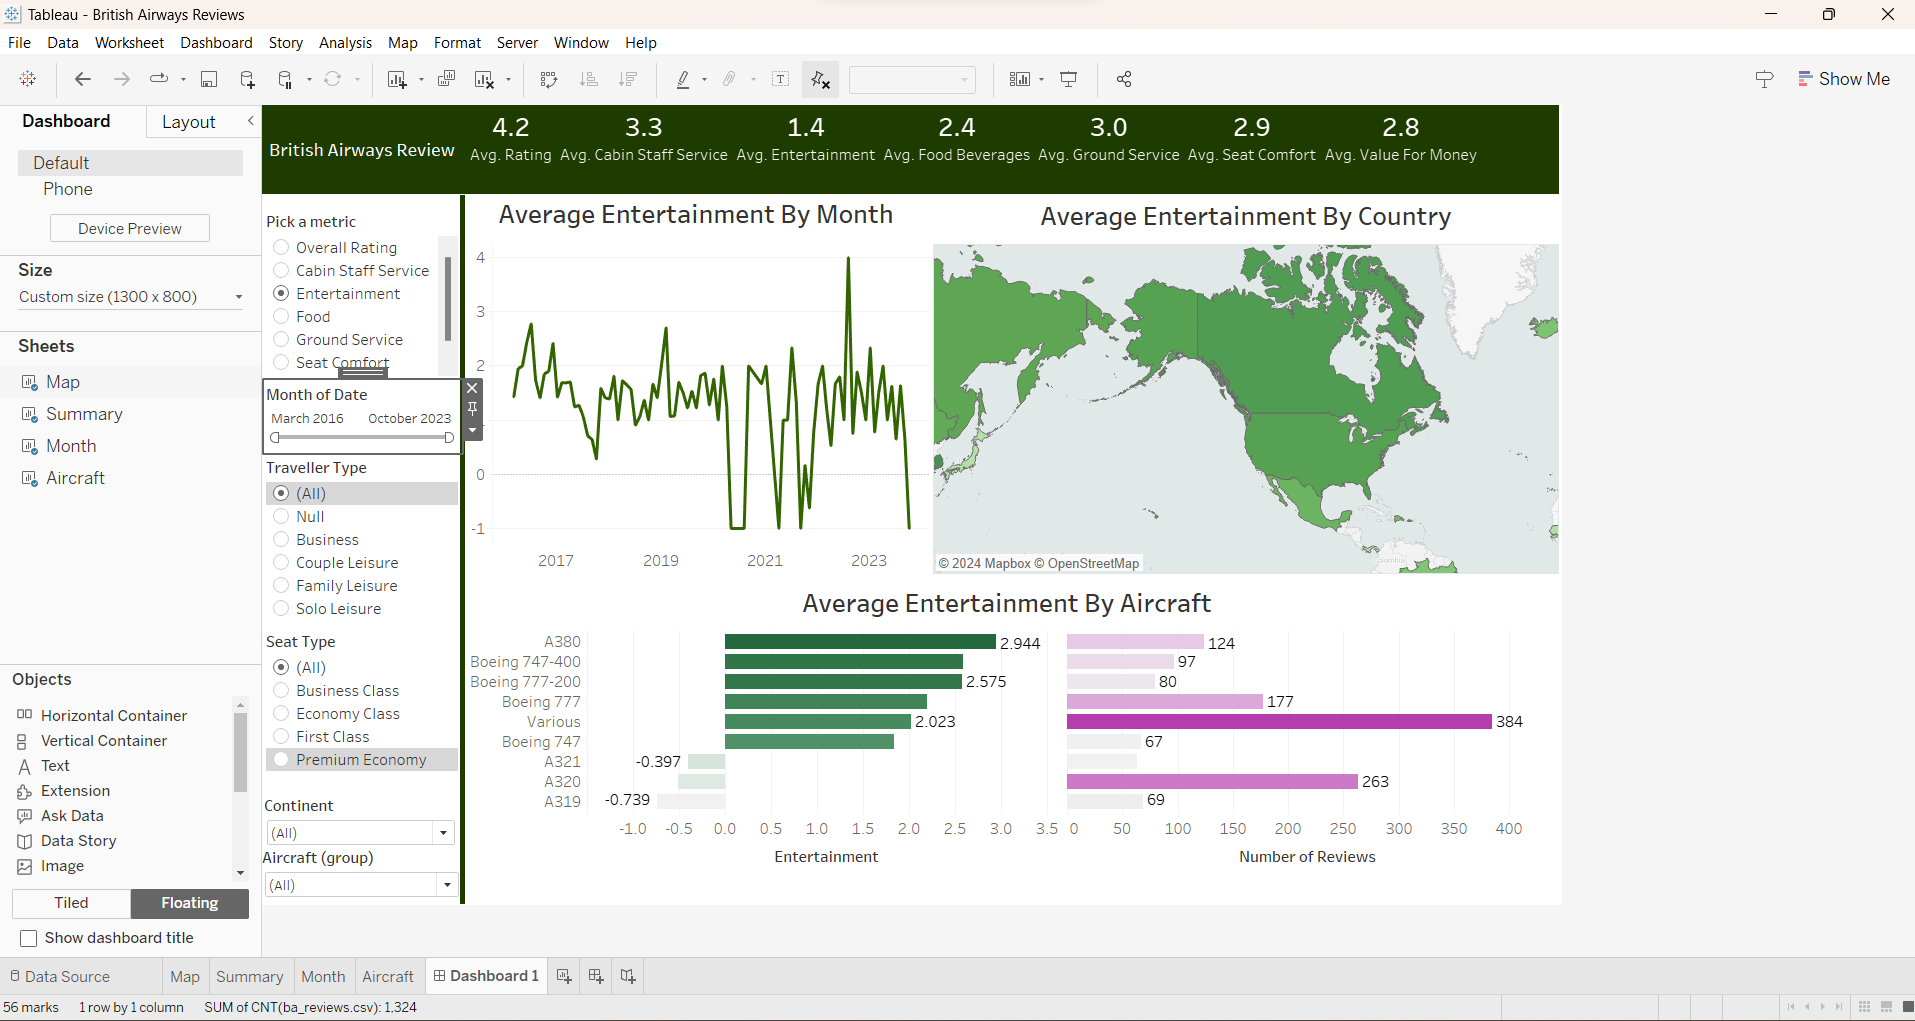

Layout of this report page (visuals, bound fields, positions):
{"tool":"tableau","page":{"name":"Dashboard 1","canvas":[1300,800],"ordinal":0},"visuals":[{"type":"text","box":[0,0,200,88.9]},{"type":"worksheet","title":"Summary","mark":"Automatic","box":[200,0,1097,88.9]},{"type":"worksheet","title":"Month","mark":"Automatic","rows":["Calculation_2093047979971928064"],"cols":["date"],"box":[200,87,468,381]},{"type":"worksheet","title":"Map","mark":"Automatic","box":[671,89,626,380]},{"type":"parameter","param":"[Parameters].[Parameter 1]","box":[0,102,200,173.5]},{"type":"filter","title":"Map","param":"[federated.1b5cnj90hglidt1d4gpkt01p5bir].[tmn:date:qk]","box":[0,275.5,200,73]},{"type":"filter","title":"Map","param":"[federated.1b5cnj90hglidt1d4gpkt01p5bir].[none:traveller_type:nk]","box":[0,348.5,200,173.5]},{"type":"filter","title":"Map","param":"[federated.1b5cnj90hglidt1d4gpkt01p5bir].[none:seat_type:nk]","box":[0,522,200,168]},{"type":"filter","title":"Map","param":"[federated.1b5cnj90hglidt1d4gpkt01p5bir].[none:Continent:nk]","box":[2,690,194,53]},{"type":"filter","title":"Map","param":"[federated.1b5cnj90hglidt1d4gpkt01p5bir].[Aircraft (group)]","box":[0,742,200,58]}]}

Visuals, with their boxes on the page's 1300x800 design canvas (x1, y1, x2, y2). These are canvas units, not pixel positions in the 1915x1021 screenshot, which may show the page scaled, cropped or inside an application window:
text: x1=0, y1=0, x2=200, y2=89
"Summary" worksheet: x1=200, y1=0, x2=1297, y2=89
"Month" worksheet: x1=200, y1=87, x2=668, y2=468
"Map" worksheet: x1=671, y1=89, x2=1297, y2=469
parameter: x1=0, y1=102, x2=200, y2=276
"Map" filter: x1=0, y1=276, x2=200, y2=348
"Map" filter: x1=0, y1=348, x2=200, y2=522
"Map" filter: x1=0, y1=522, x2=200, y2=690
"Map" filter: x1=2, y1=690, x2=196, y2=743
"Map" filter: x1=0, y1=742, x2=200, y2=800
